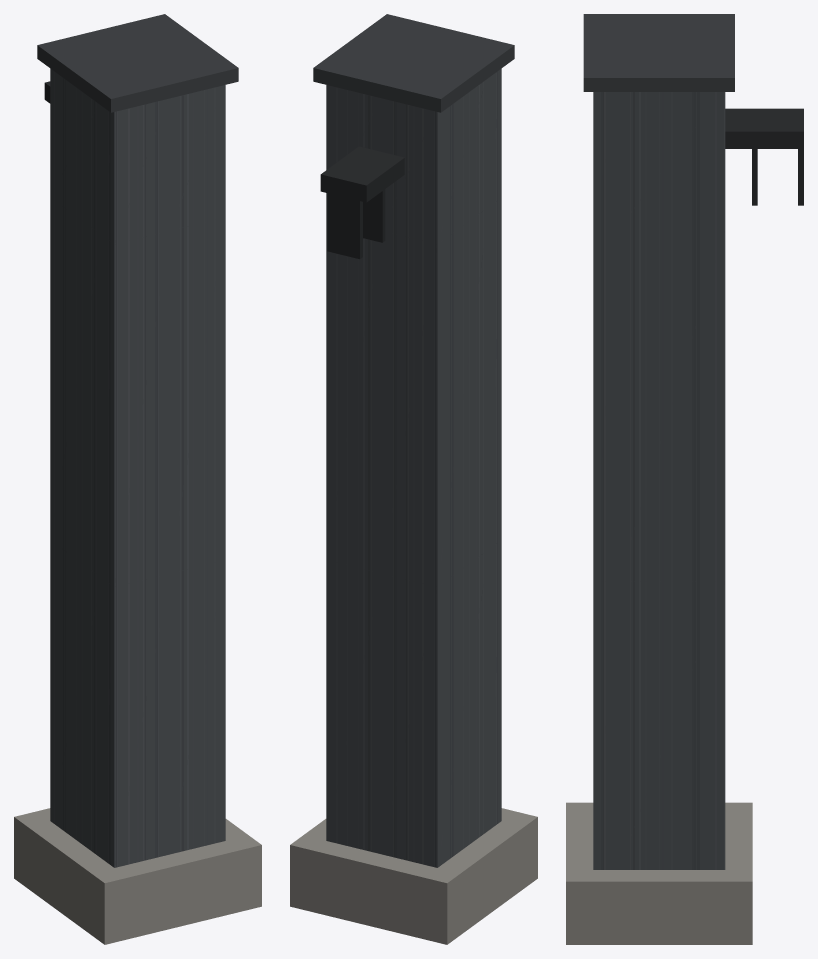
Rendered from MinidoracatKnoxPass_slidepost1_A.glb.
3 views of the same model, side by side, from view 1: azimuth 30°, elevation 25°; view 2: azimuth 150°, elevation 25°; view 3: azimuth 270°, elevation 25° (orthographic). The views are drawn at different scales.
Parts seen in each view (by area): view 1: MinidoracatKnoxPass_slidepost1_A; view 2: MinidoracatKnoxPass_slidepost1_A; view 3: MinidoracatKnoxPass_slidepost1_A.
Part boxes in pixels (x1,y1,x2,y2): MinidoracatKnoxPass_slidepost1_A: (14,14,261,944); MinidoracatKnoxPass_slidepost1_A: (290,14,537,944); MinidoracatKnoxPass_slidepost1_A: (566,14,803,944).
Bounding box in the file's own units: 0.48 × 2.44 × 0.612.
1 material, 1 textured.
